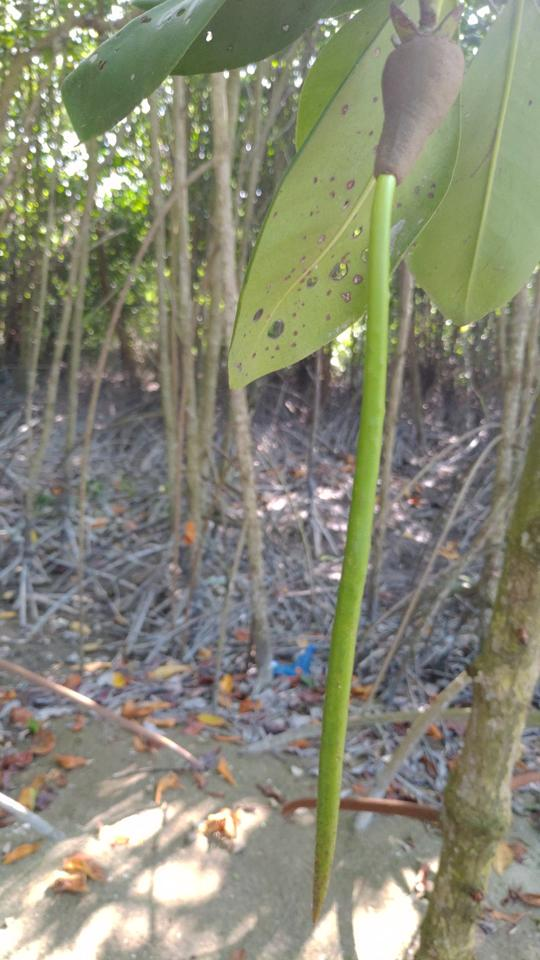mentah: (290, 18, 476, 929)
